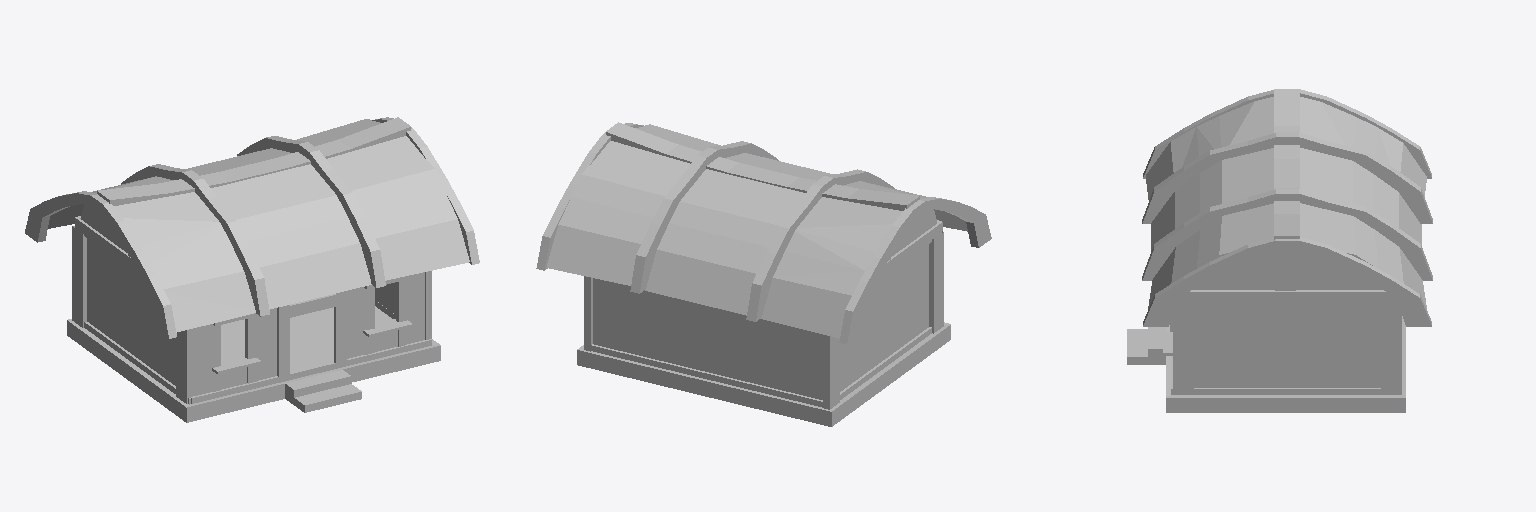
The model's file is house.obj.
3 views of the same model, side by side, from view 1: azimuth 30°, elevation 25°; view 2: azimuth 150°, elevation 25°; view 3: azimuth 270°, elevation 25° (orthographic).
Parts seen in each view (by area): view 1: house_Cube.026; view 2: house_Cube.026; view 3: house_Cube.026.
Boxes of the visible parts, box(x1,y1,x2,y2) form: house_Cube.026: box(25, 117, 479, 422); house_Cube.026: box(536, 122, 991, 426); house_Cube.026: box(1127, 89, 1432, 412).
Size of the model in its own units: 8.78 by 5.1 by 7.48.